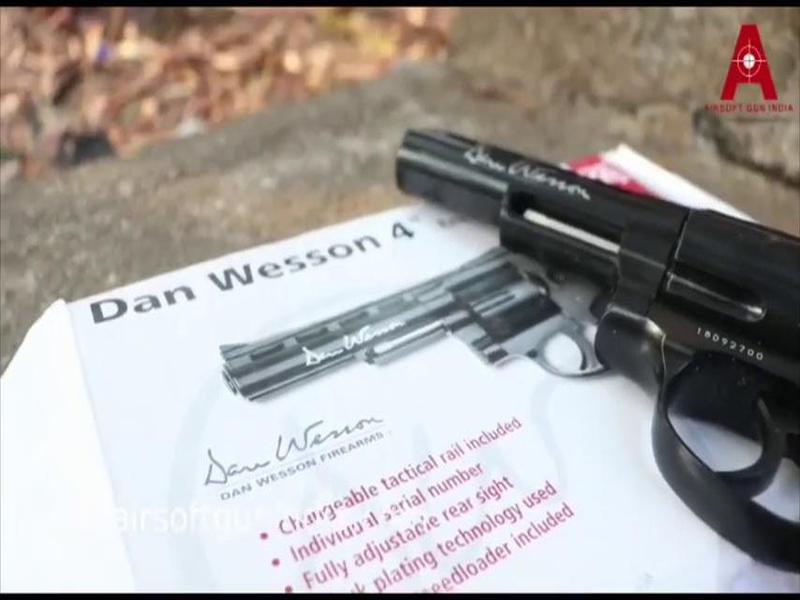Revolver: (396, 95, 800, 568)
